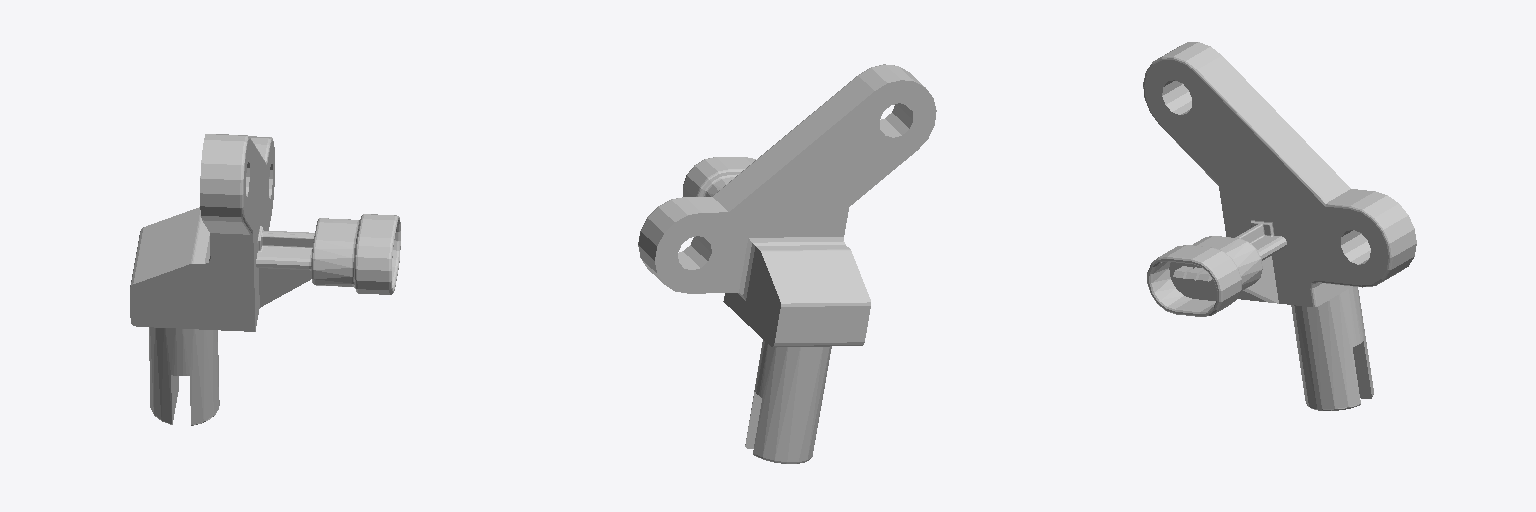
Rendered from Датчик фаз.obj.
The picture shows the model from 3 angles: view 1: azimuth 30°, elevation 25°; view 2: azimuth 150°, elevation 25°; view 3: azimuth 270°, elevation 25°; orthographic projection.
Visible parts, largest first — view 1: Датчик_фаз; view 2: Датчик_фаз; view 3: Датчик_фаз.
Part boxes in pixels (bbox=[...]): Датчик_фаз: bbox=[130, 134, 400, 425]; Датчик_фаз: bbox=[638, 64, 936, 463]; Датчик_фаз: bbox=[1143, 42, 1416, 410].
Bounding box in the file's own units: 42.19 × 59.34 × 43.66.